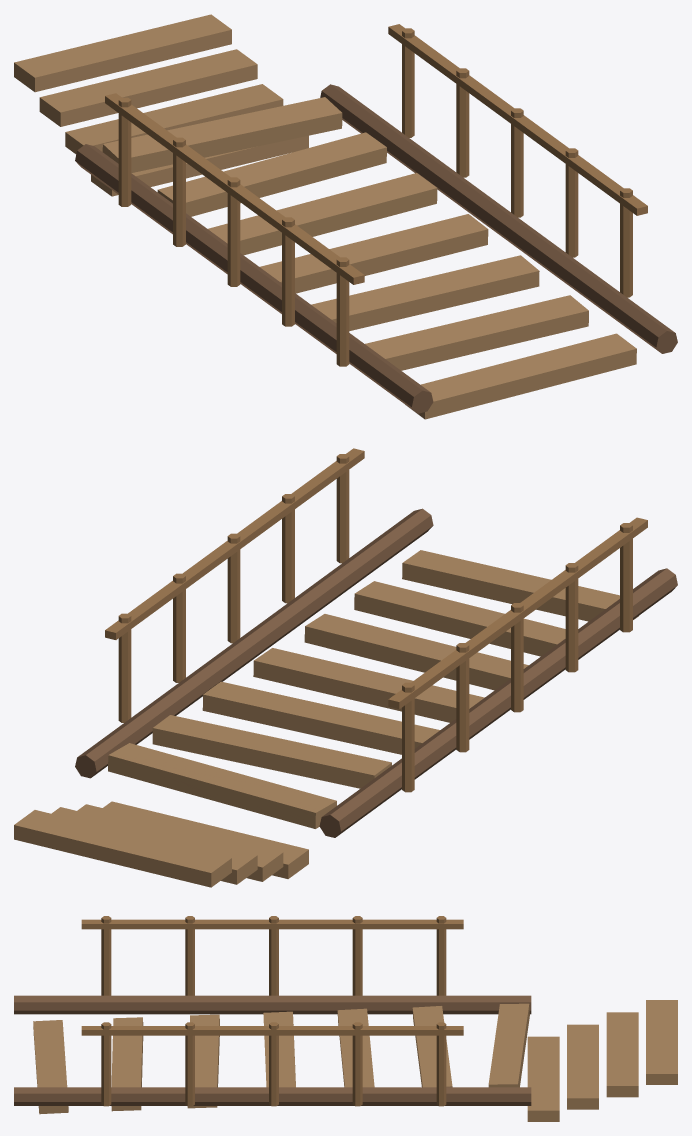
The model's file is root-bridge-stairs.low.glb.
3 views of the same model, one above another, from view 1: azimuth 30°, elevation 25°; view 2: azimuth 150°, elevation 25°; view 3: azimuth 270°, elevation 25° (orthographic). The views are drawn at different scales.
Parts seen in each view (by area): view 1: bridge_root_right, bridge_root_left, bridge_plank_00, bridge_stair_3, bridge_plank_01, bridge_plank_02, bridge_stair_2, bridge_plank_06, bridge_plank_05, bridge_plank_04, bridge_plank_03, bridge_stair_1 (+13 smaller); view 2: bridge_root_right, bridge_root_left, bridge_plank_05, bridge_plank_06, bridge_stair_3, bridge_plank_04, bridge_plank_03, bridge_plank_02, bridge_plank_01, bridge_plank_00, bridge_rope_left, bridge_rope_right (+13 smaller); view 3: bridge_root_left, bridge_root_right, bridge_rope_left, bridge_rope_right, bridge_stair_2, bridge_stair_0, bridge_stair_1, bridge_stair_3, bridge_plank_06, bridge_plank_00, bridge_plank_01, bridge_plank_05 (+13 smaller).
Part boxes in pixels (x1,y1,x2,y2): bridge_root_right: (320,84,677,353); bridge_root_left: (75,144,433,413); bridge_plank_00: (407,333,636,419); bridge_stair_3: (14,14,231,92); bridge_plank_01: (365,295,588,370); bridge_plank_02: (311,255,539,330); bridge_stair_2: (39,49,257,126); bridge_plank_06: (102,97,342,172); bridge_plank_05: (157,132,386,216); bridge_plank_04: (208,173,437,255); bridge_plank_03: (260,214,488,293); bridge_stair_1: (65,84,283,154); bridge_root_right: (75,508,433,778); bridge_root_left: (319,568,677,837); bridge_plank_05: (152,715,391,788); bridge_plank_06: (108,743,336,828); bridge_stair_3: (14,810,231,887); bridge_plank_04: (202,681,439,754); bridge_plank_03: (253,648,484,722); bridge_plank_02: (304,614,528,690); bridge_plank_01: (354,581,565,656); bridge_plank_00: (402,550,638,621); bridge_rope_left: (388,517,647,709); bridge_rope_right: (105,448,364,639); bridge_root_left: (14,995,531,1014); bridge_root_right: (14,1087,531,1105); bridge_rope_left: (81,919,463,929); bridge_rope_right: (81,1026,463,1035); bridge_stair_2: (606,1012,638,1097); bridge_stair_0: (527,1036,559,1121); bridge_stair_1: (567,1024,598,1109); bridge_stair_3: (646,1000,677,1084); bridge_plank_06: (488,1003,529,1087); bridge_plank_00: (33,1020,68,1114); bridge_plank_01: (111,1017,143,1111); bridge_plank_05: (412,1006,452,1087).
Size of the model in its own units: 2.12 by 1.02 by 5.39.
